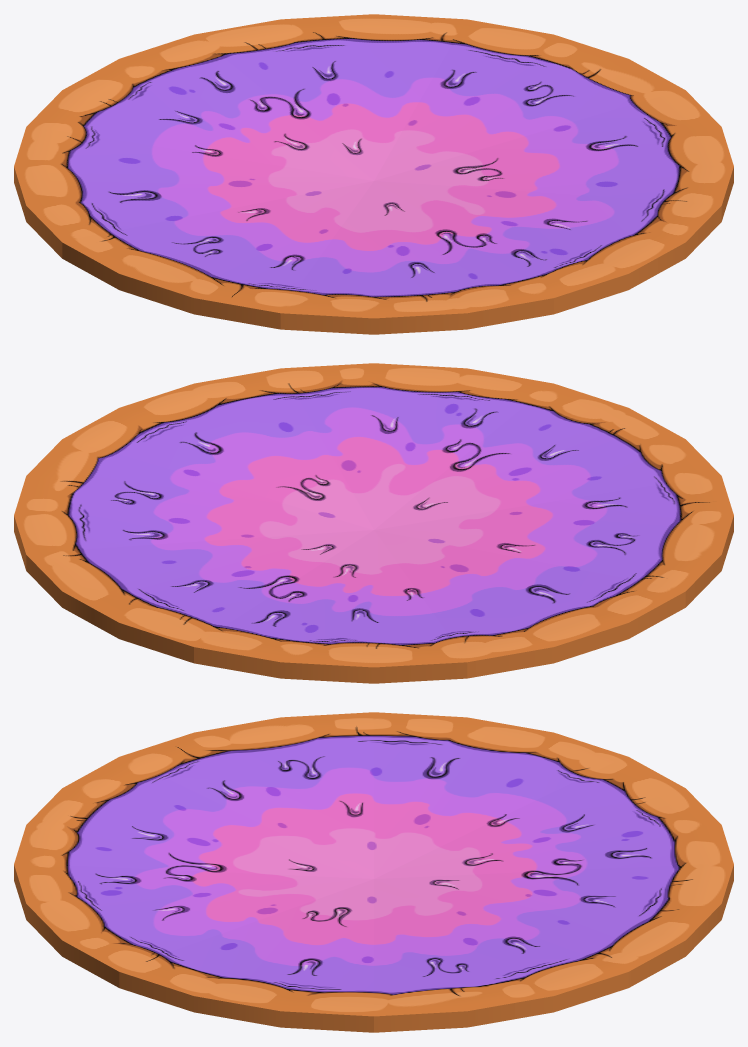
Rendered from pizza_tex.fbx.
The picture shows the model from 3 angles, top to bottom: view 1: azimuth 30°, elevation 25°; view 2: azimuth 150°, elevation 25°; view 3: azimuth 270°, elevation 25°; orthographic projection.
Visible parts, largest first — view 1: piece7, piece6, piece3, piece8, piece2, piece4, piece5, piece1; view 2: piece4, piece5, piece8, piece3, piece1, piece7, piece6, piece2; view 3: piece1, piece2, piece5, piece6, piece3, piece8, piece4, piece7.
Boxes of the visible parts, x1,y1,x2,y2 form: piece7: (280, 181, 553, 334); piece6: (62, 181, 373, 329); piece3: (194, 14, 466, 180); piece8: (374, 181, 721, 314); piece2: (374, 19, 685, 180); piece4: (26, 34, 373, 180); piece5: (14, 127, 372, 258); piece1: (375, 90, 733, 221); piece4: (194, 530, 467, 683); piece5: (374, 530, 685, 678); piece8: (281, 363, 553, 529); piece3: (26, 530, 373, 663); piece1: (62, 368, 373, 529); piece7: (374, 383, 721, 529); piece6: (375, 476, 733, 607); piece2: (14, 439, 372, 570); piece1: (119, 879, 373, 1032); piece2: (374, 879, 628, 1032); piece5: (374, 712, 627, 878); piece6: (120, 712, 373, 878); piece3: (374, 864, 733, 987); piece8: (14, 864, 373, 987); piece4: (374, 757, 733, 878); piece7: (14, 757, 373, 878).
Bounding box in the file's own units: 1363 × 36.74 × 1363.
Materials: 1 (1 with a texture image).
